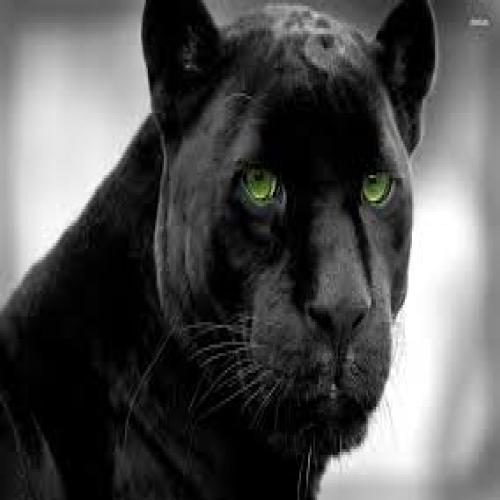panther-endangered: (10, 0, 436, 500)
